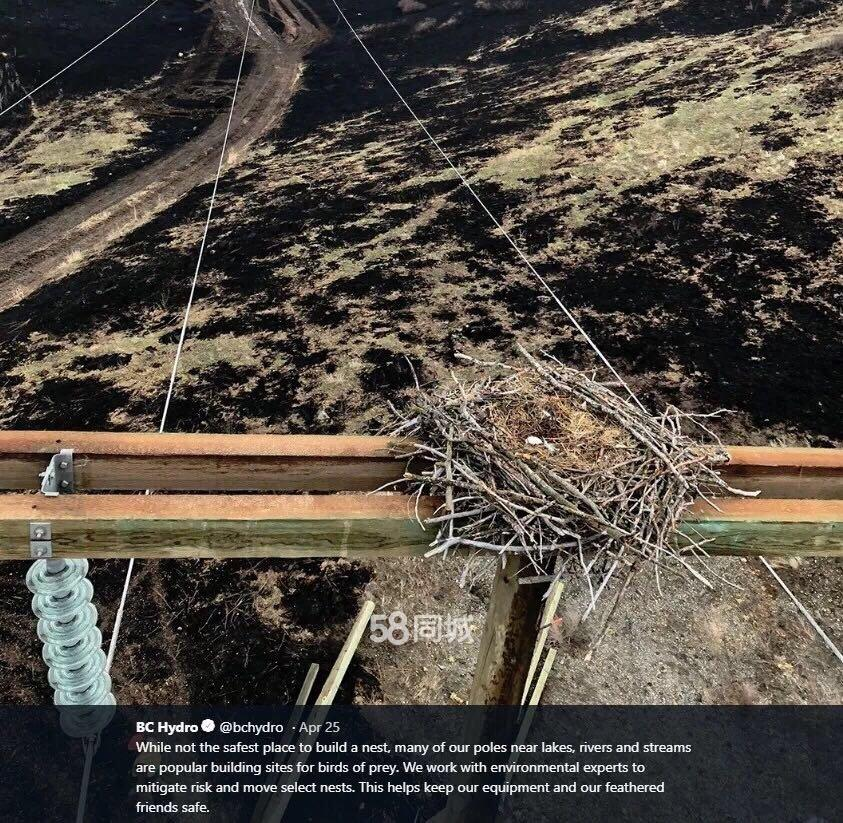bird-nest: (415, 368, 708, 563)
